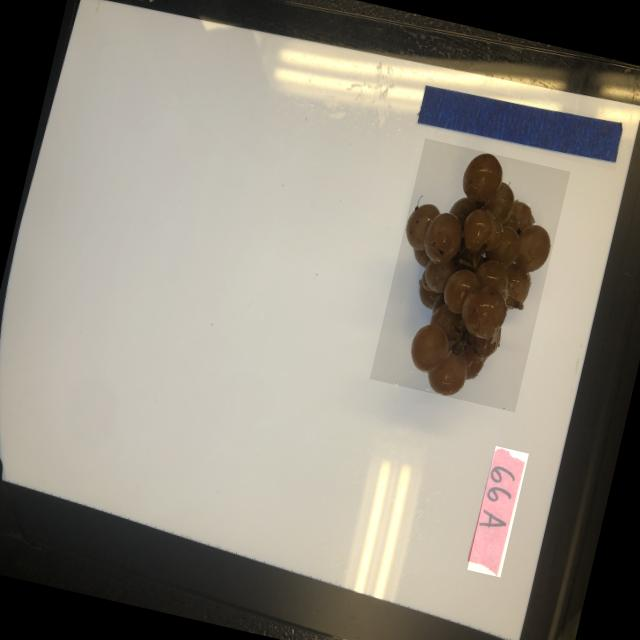grape_cluster: (368, 138, 569, 412)
index: (466, 446, 528, 576)
measure_label: (414, 76, 626, 170)
